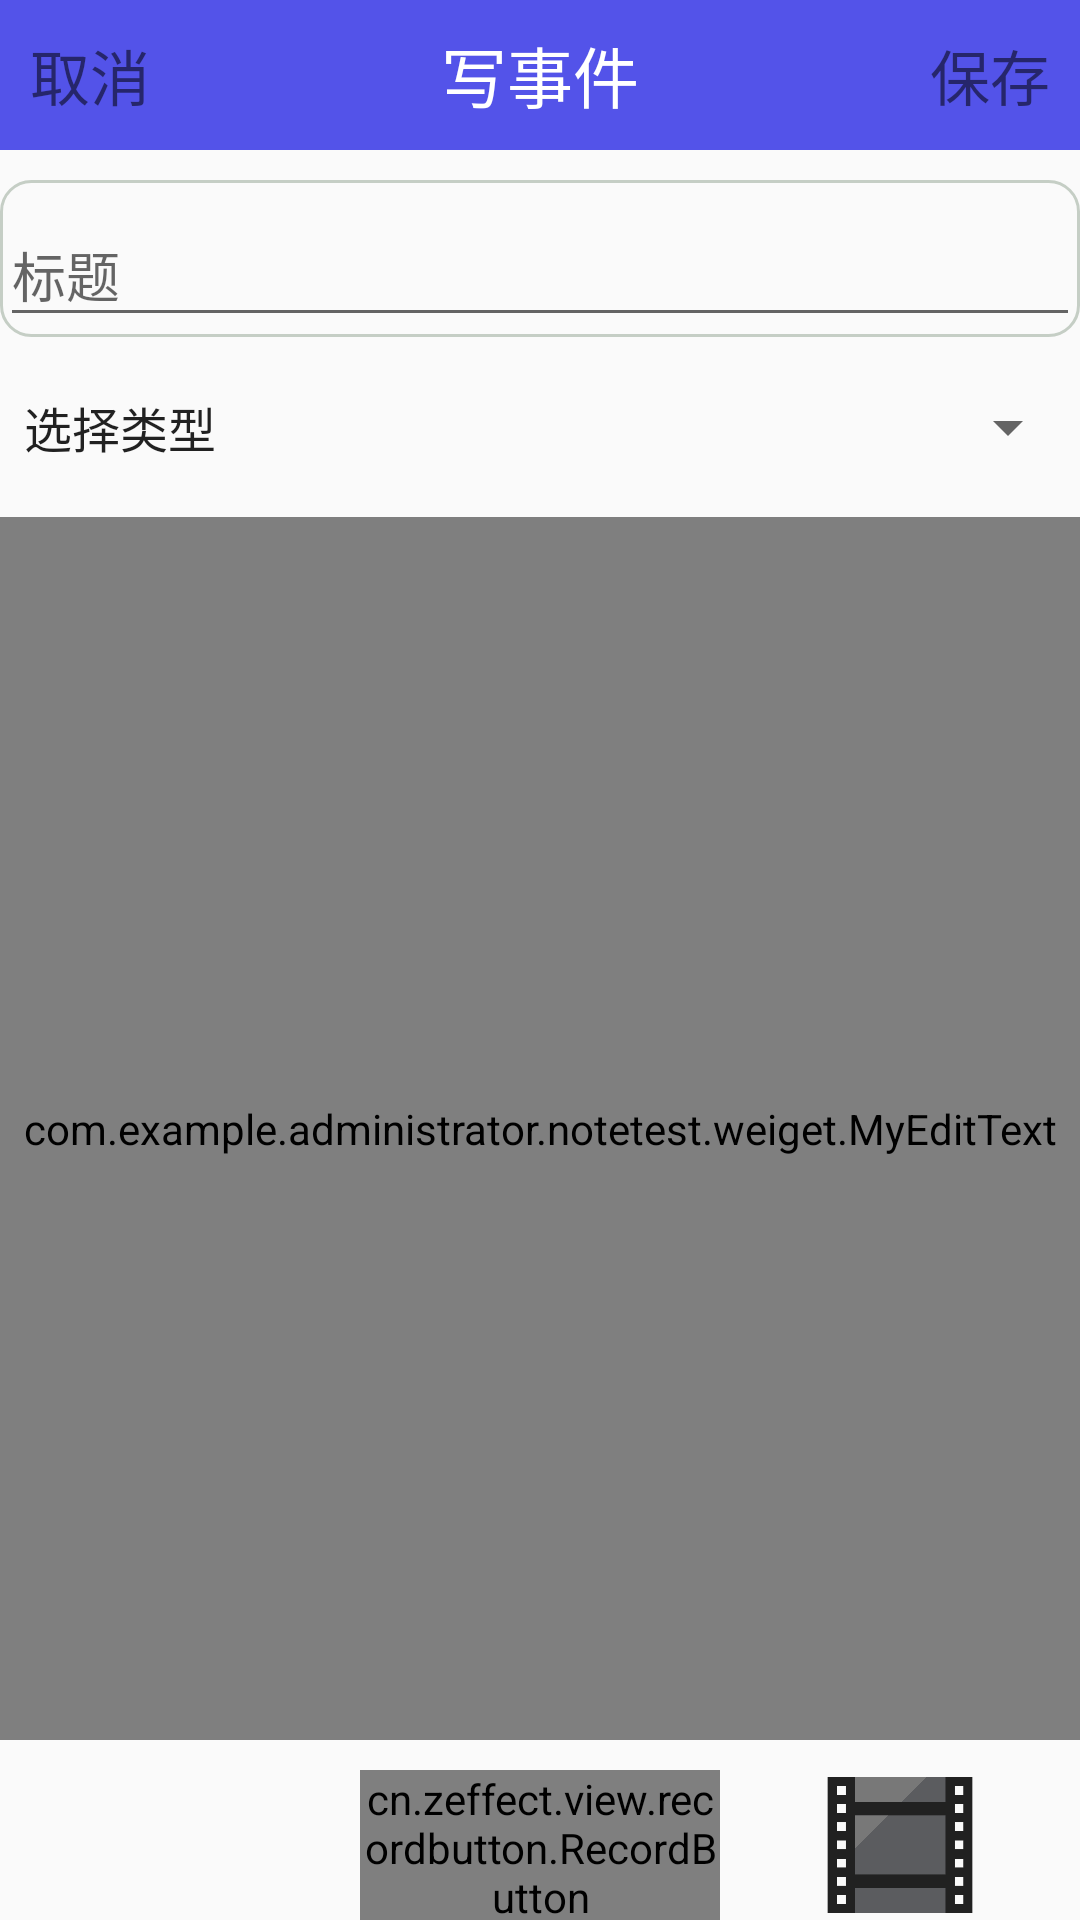

Screen size 1080x1920. Icon name, then its center in pixels as point (x, y):
film: point (900, 1845)
